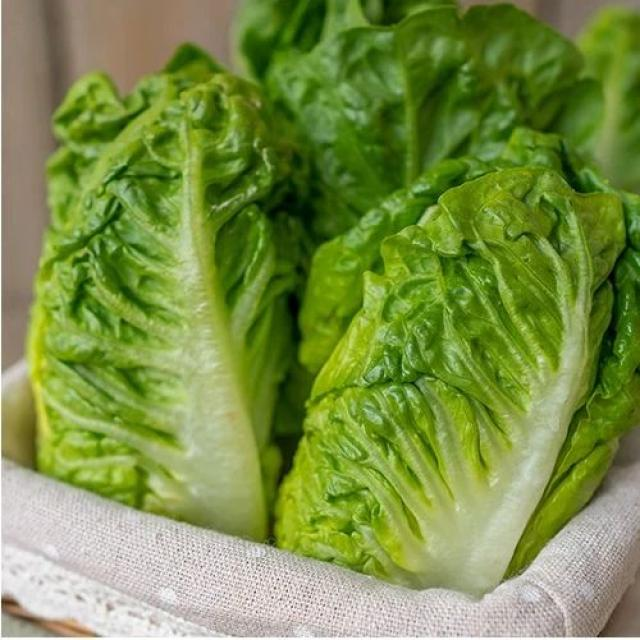lettuce: (277, 164, 638, 592), (30, 46, 295, 539), (255, 3, 601, 238), (580, 8, 639, 192)
